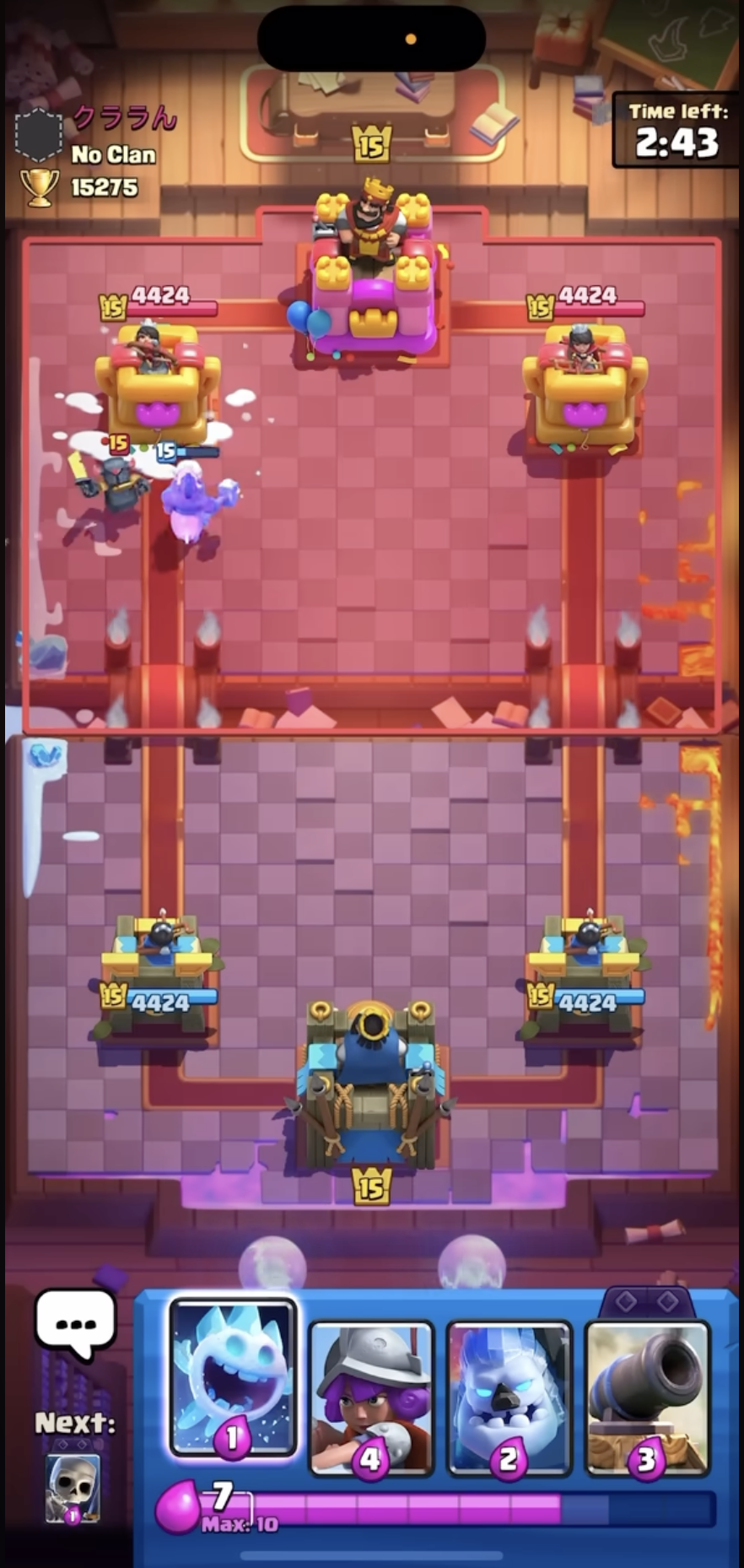mini-pekka: (73, 418, 153, 520)
